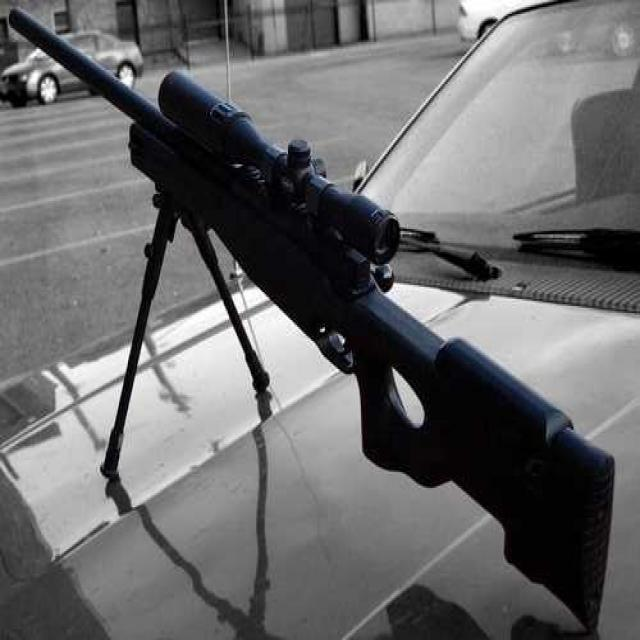weapon: (0, 0, 622, 631)
